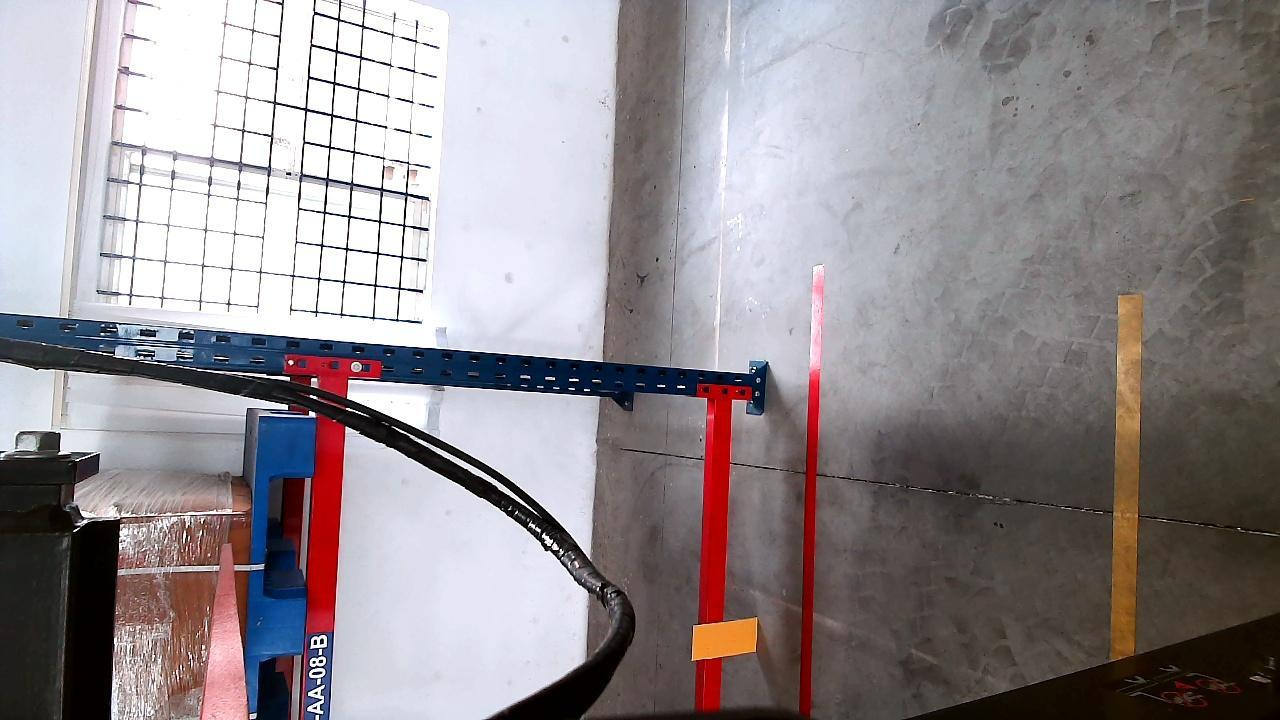red_line: (798, 262, 824, 720)
yellow_line: (1110, 287, 1144, 657)
